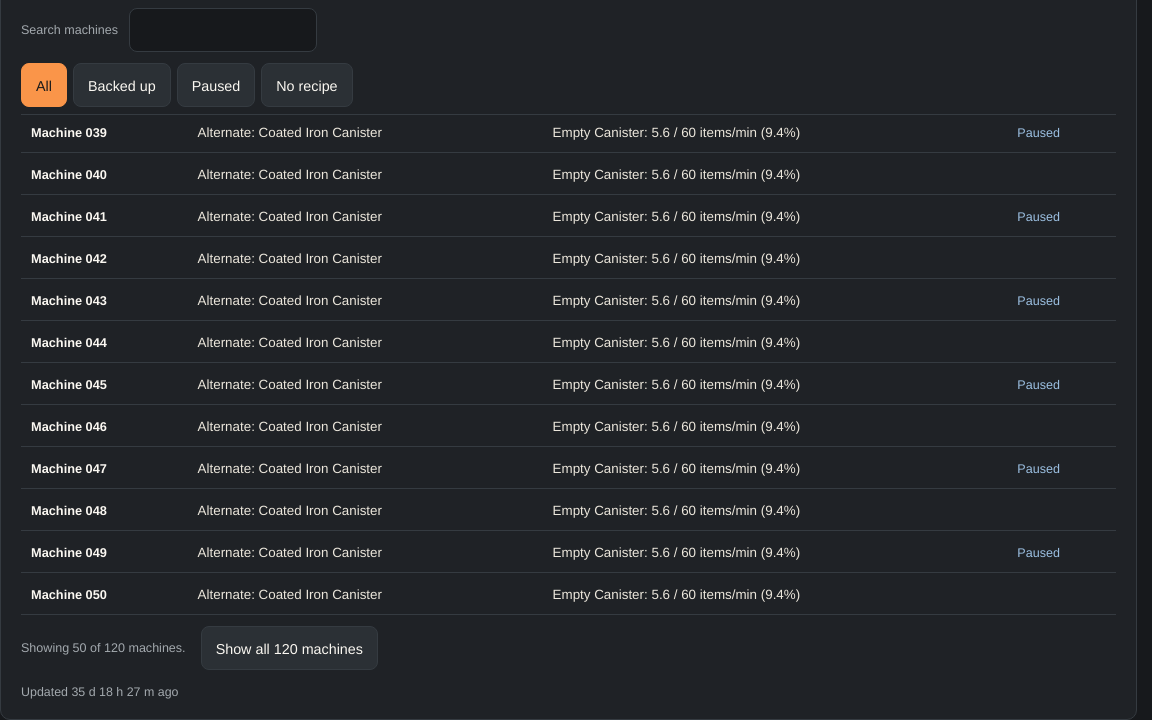
Test: FactoryPanel row cap (ADR-0062 F.5) › Show all reveals the rest in place and moves focus to the first newly shown machine
This screenshot has width=1152, height=720.
(page scrolled)
Click the button "Show all 120 machines". click: (289, 648)
box: [201,626,378,670]
(page scrolled)
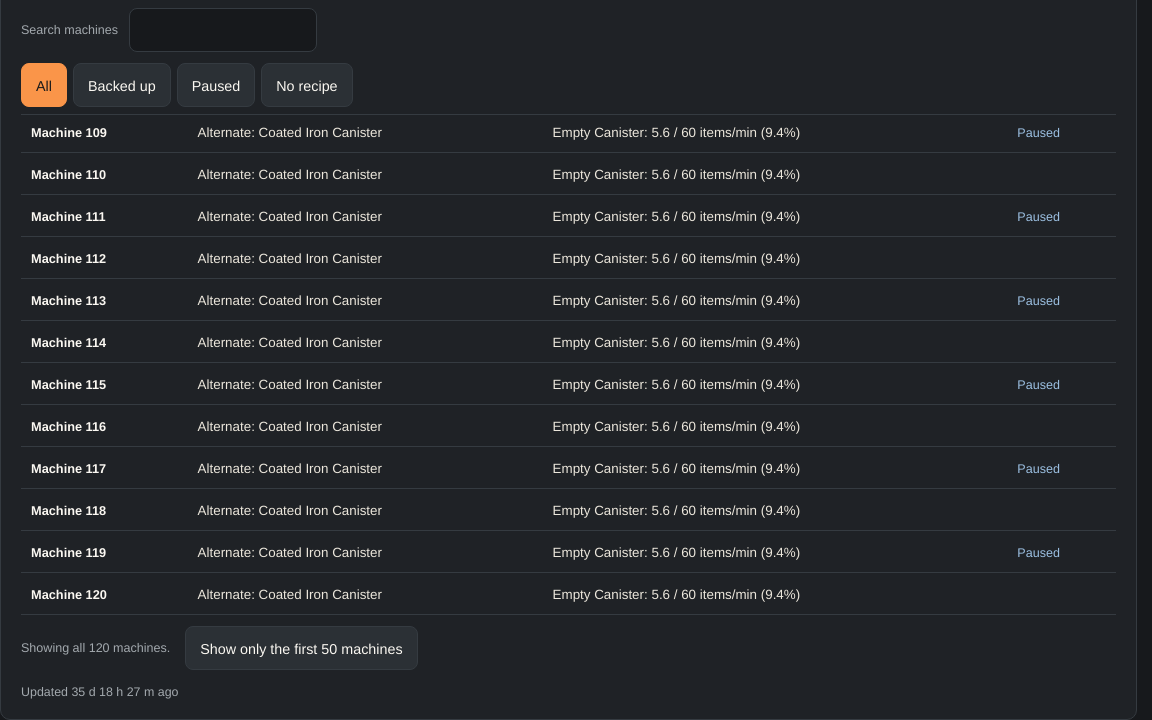
Expected: the message reads "Showing all 120 machines.", [21,639,170,655]
